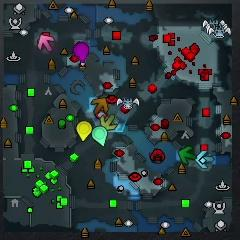p2: (92, 126, 108, 147)
p3: (75, 42, 89, 62)
p4: (76, 120, 92, 141)
x1: (38, 35, 53, 52)
x2: (100, 113, 117, 130)
x3: (196, 149, 214, 168)
x4: (179, 146, 197, 165)
x5: (90, 97, 108, 115)
